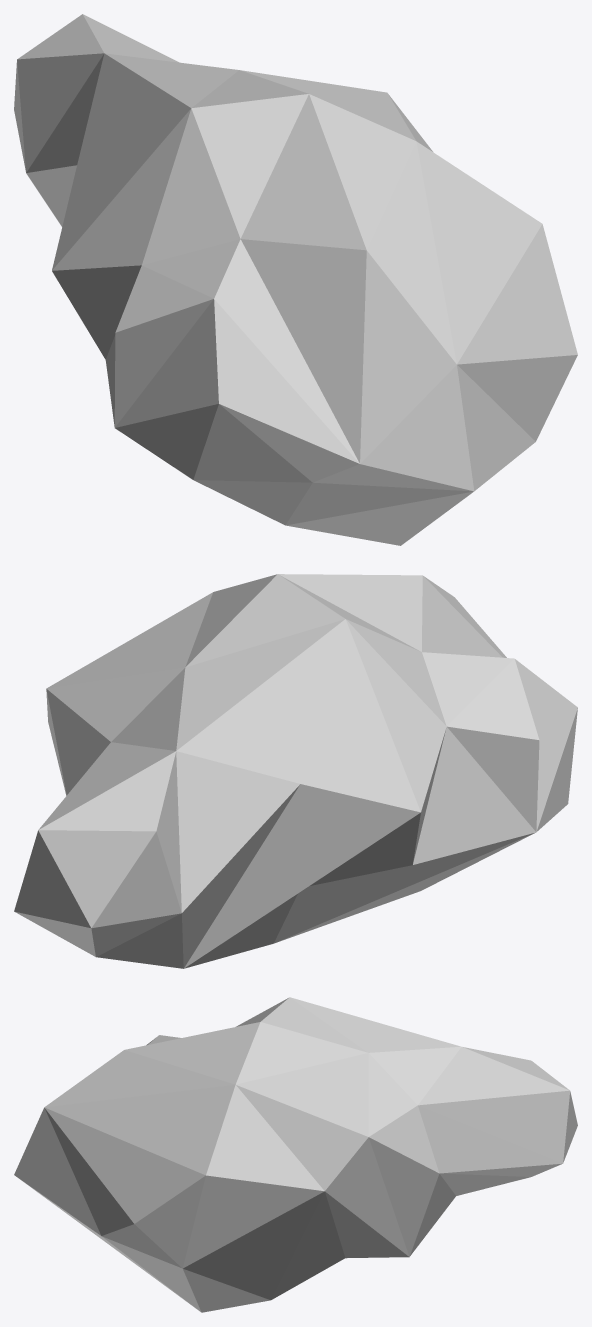
Rendered from cloud.glb.
3 views of the same model, one above another, from view 1: azimuth 30°, elevation 25°; view 2: azimuth 150°, elevation 25°; view 3: azimuth 270°, elevation 25° (orthographic). The views are drawn at different scales.
Visible parts, largest first — view 1: Cloud.001; view 2: Cloud.001; view 3: Cloud.001.
Part boxes in pixels (box(x1,y1,x2,y2)): Cloud.001: box(14, 14, 577, 545); Cloud.001: box(14, 574, 577, 968); Cloud.001: box(14, 997, 577, 1312).
Size of the model in its own units: 5.5 by 5.25 by 9.7.
Materials: 1 (1 with a texture image).
